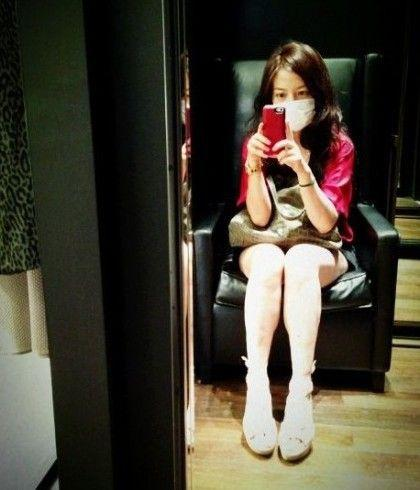OK: (270, 81, 318, 134)
